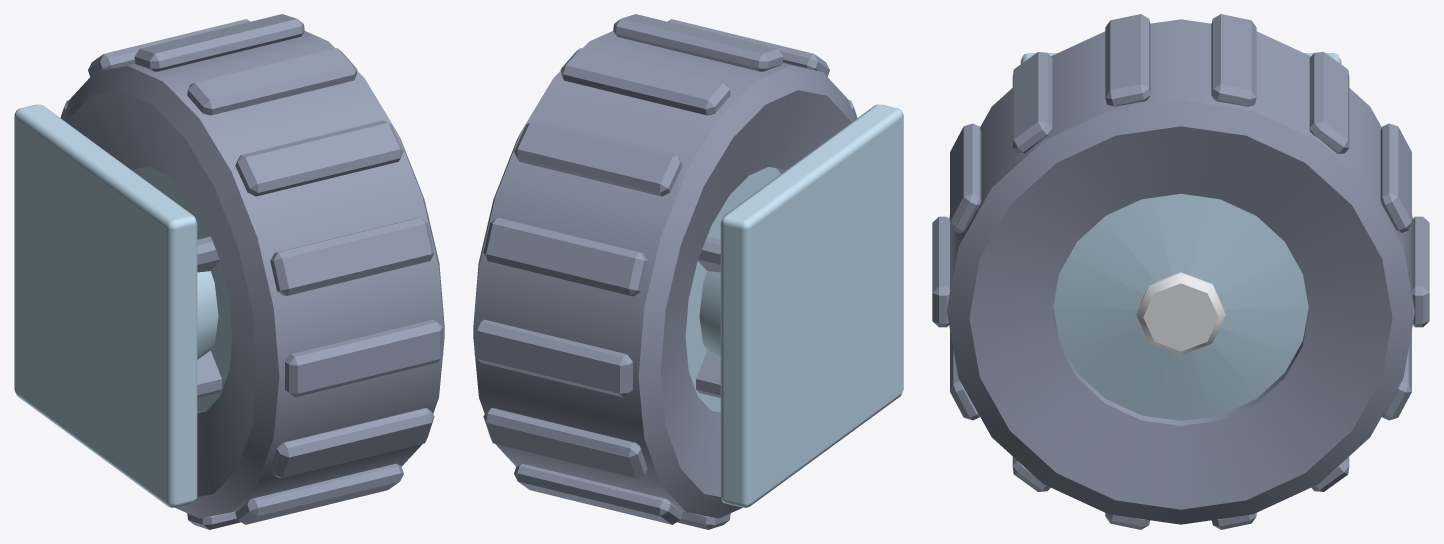
File: R4M_WheelM_Side_Offroad.glb
3 renders of one model, left to right at view 1: azimuth 30°, elevation 25°; view 2: azimuth 150°, elevation 25°; view 3: azimuth 270°, elevation 25°, orthographic.
Visible parts, largest first — view 1: R4M_WheelM_Side_Offroad_Rotor, R4M_WheelM_Side_Offroad_Mount; view 2: R4M_WheelM_Side_Offroad_Rotor, R4M_WheelM_Side_Offroad_Mount; view 3: R4M_WheelM_Side_Offroad_Rotor.
Part boxes in pixels (box(x1,y1,x2,y2)): R4M_WheelM_Side_Offroad_Rotor: box(60, 14, 444, 529); R4M_WheelM_Side_Offroad_Mount: box(14, 104, 221, 507); R4M_WheelM_Side_Offroad_Rotor: box(473, 14, 857, 529); R4M_WheelM_Side_Offroad_Mount: box(696, 104, 903, 507); R4M_WheelM_Side_Offroad_Rotor: box(932, 14, 1429, 529).
Size of the model in its own units: 0.452 by 0.7674 by 0.776.
